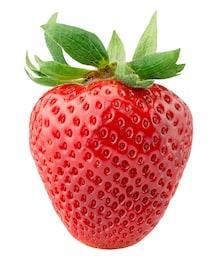Fresa: (27, 64, 198, 253)
